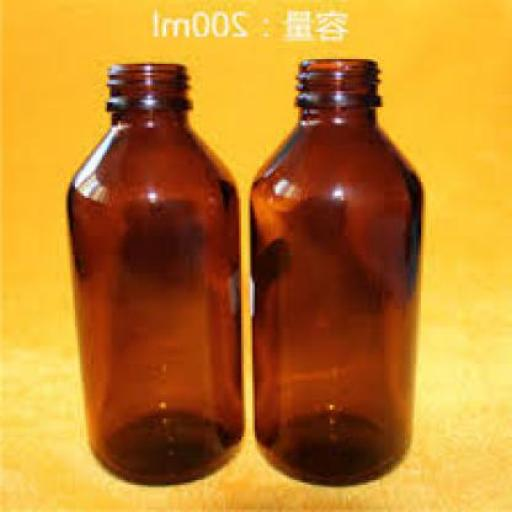glass: (250, 57, 428, 485), (68, 62, 243, 482)
